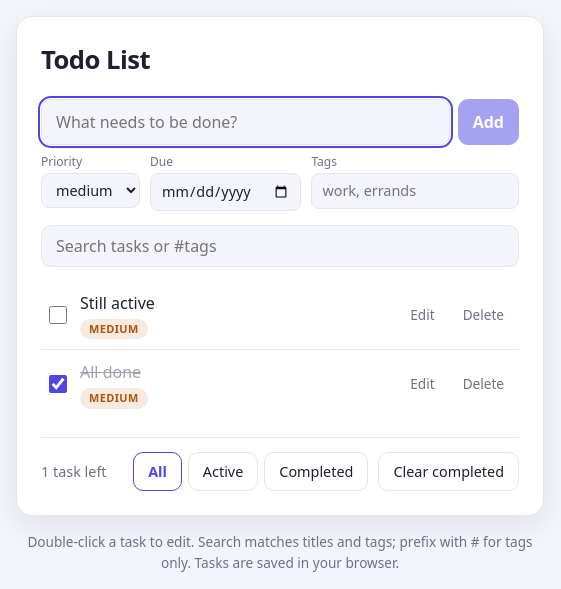
it: filters and bulk actions › clears completed tasks in bulk and hides the button when none remain
The image size is (561, 589).
Expected: the message reads "1 task left", [41,461,107,482]
Click the button "Clear completed": (449, 471) [378,452,519,491]
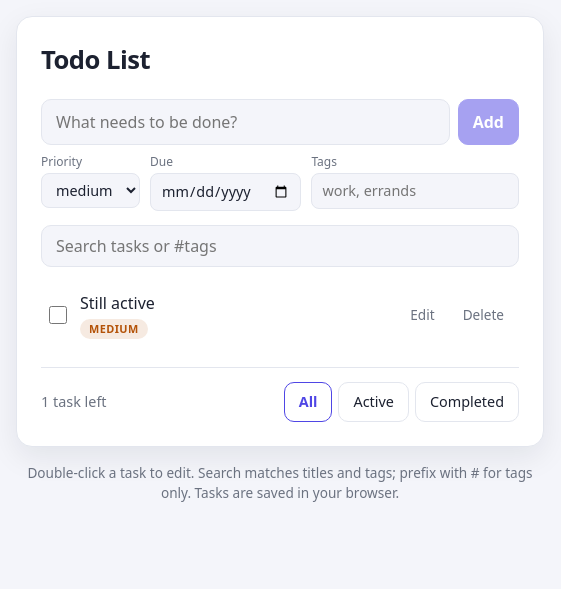
Expected: the text "Still active" is shown, [80,292,155,314]
Expected: the text "All done" is gone
Expected: the button "Clear completed" is gone
